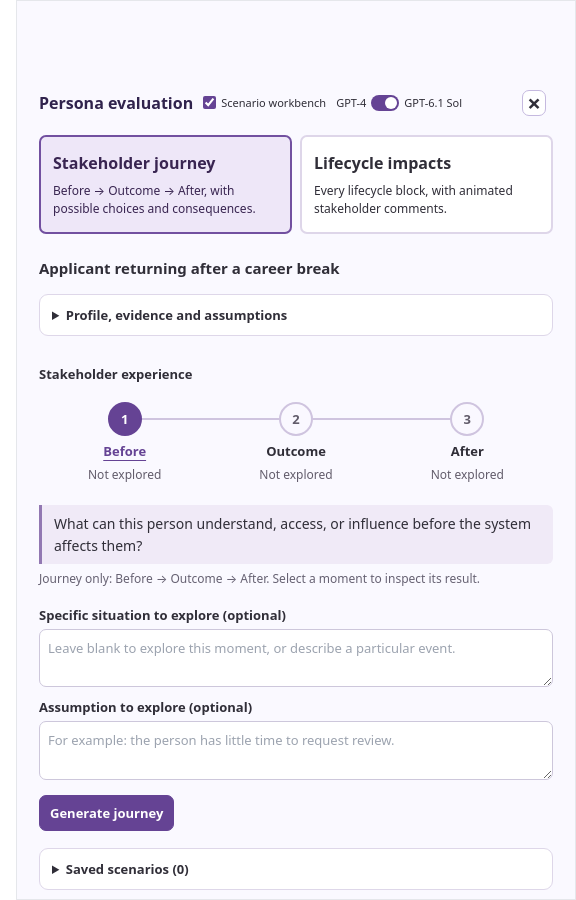
switches analysis views without generating and restores each draft
This screenshot has width=576, height=900.
Click the button "Generate journey".
click(107, 813)  # box x1=39 y1=795 x2=174 y2=831
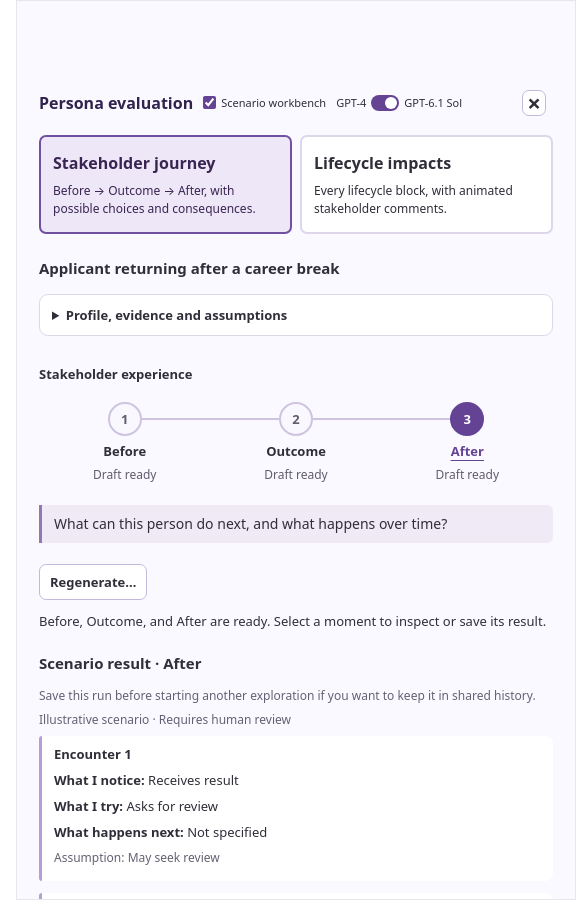
Expected: the text "Before, Outcome, and After are ready. Select a moment to inspect or save its result." is shown, x1=39 y1=612 x2=546 y2=630
Click the button "Lifecycle impacts Every".
click(426, 184)  # box x1=300 y1=135 x2=553 y2=234
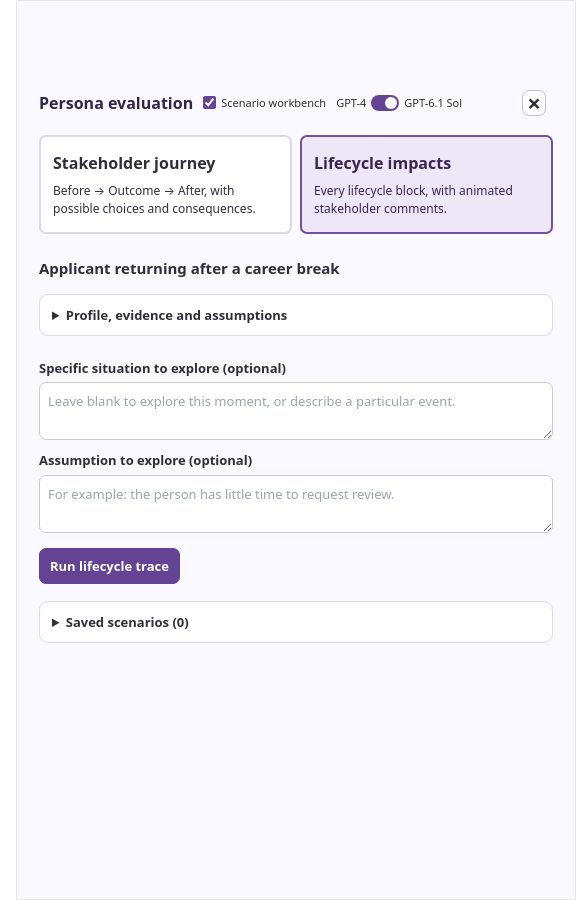
Expected: the button "Run lifecycle trace" is enabled, x1=39 y1=548 x2=180 y2=584
Click the button "Stakeholder journey Before".
click(166, 184)  # box x1=39 y1=135 x2=292 y2=234
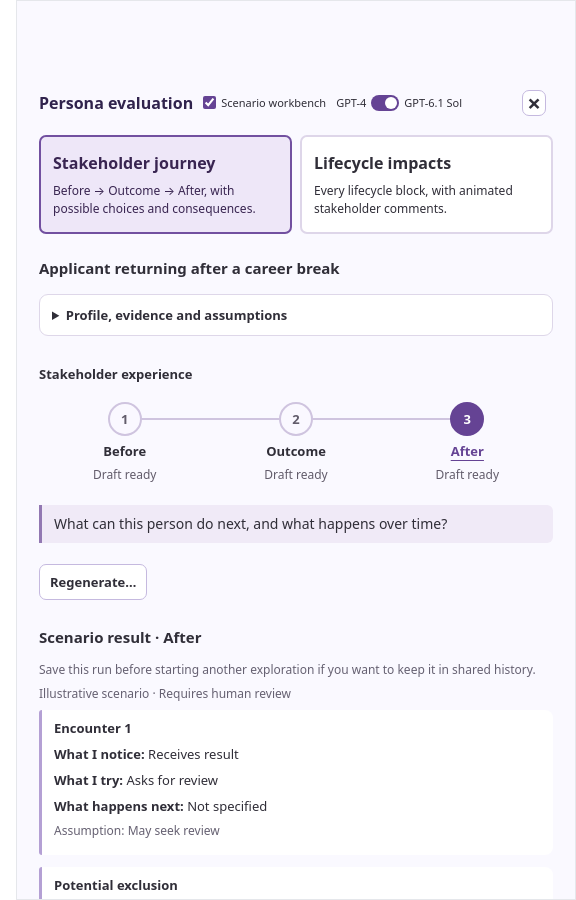
Expected: the heading "Scenario result · After" is shown, x1=39 y1=627 x2=202 y2=647
Expected: the button "Regenerate…" is shown, x1=39 y1=564 x2=147 y2=600
